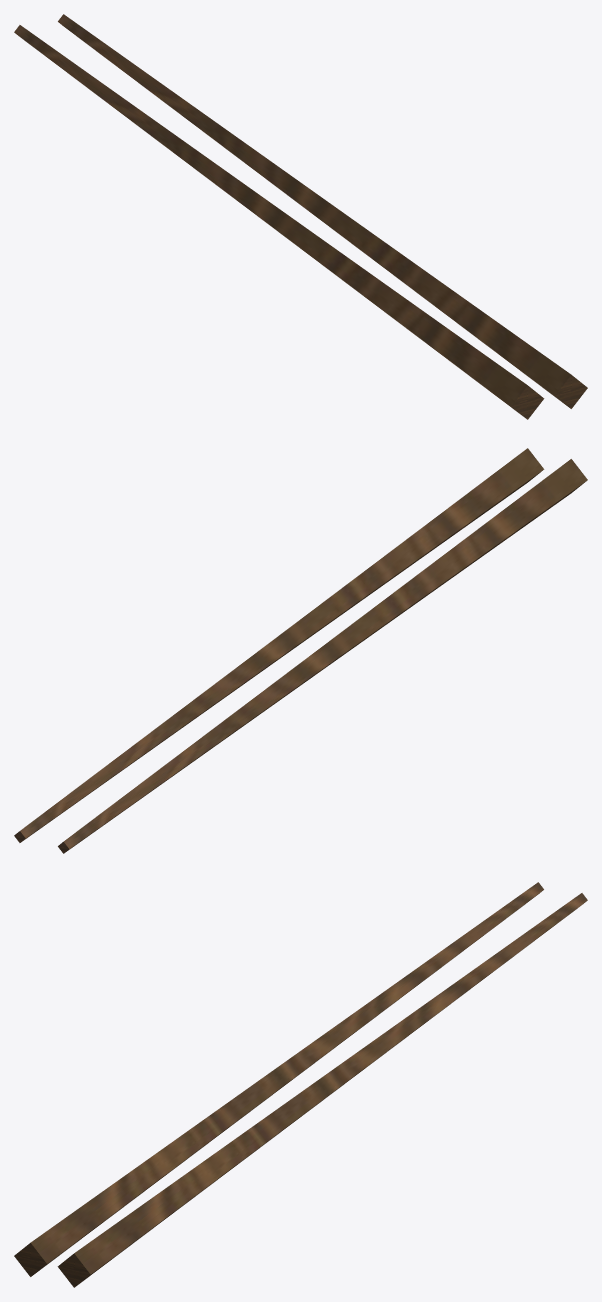
File: hasi.fbx
3 renders of one model, top to bottom at view 1: azimuth 30°, elevation 25°; view 2: azimuth 150°, elevation 25°; view 3: azimuth 330°, elevation 25°, orthographic.
Visible parts, largest first — view 1: polySurface1; view 2: polySurface1; view 3: polySurface1.
Part boxes in pixels (bbox=[...]): polySurface1: bbox=[14, 14, 587, 419]; polySurface1: bbox=[14, 448, 587, 853]; polySurface1: bbox=[14, 882, 587, 1287].
Size of the model in its own units: 2.39 by 1.03 by 27.37.
1 material, 1 textured.
